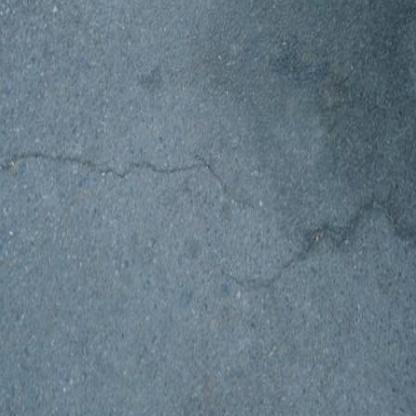Cracks: (195, 104, 416, 371), (0, 115, 246, 194)
